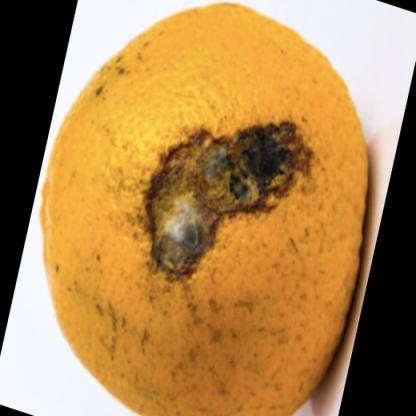rotten: (39, 4, 367, 416)
